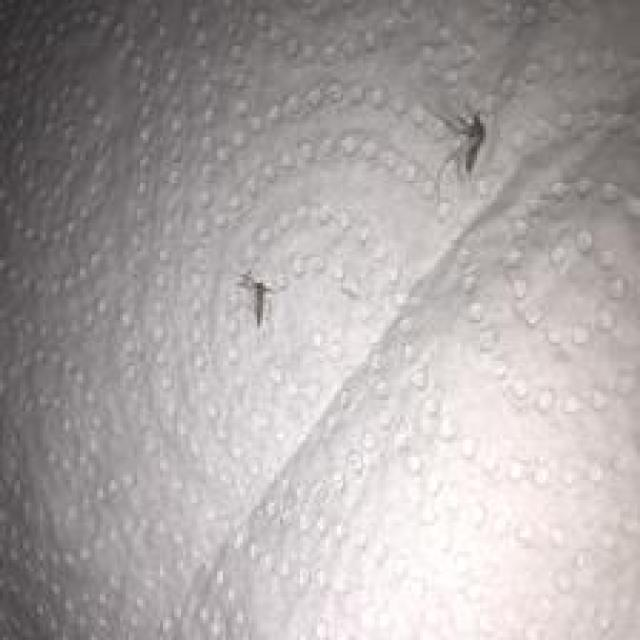Culex: (422, 100, 487, 203)
